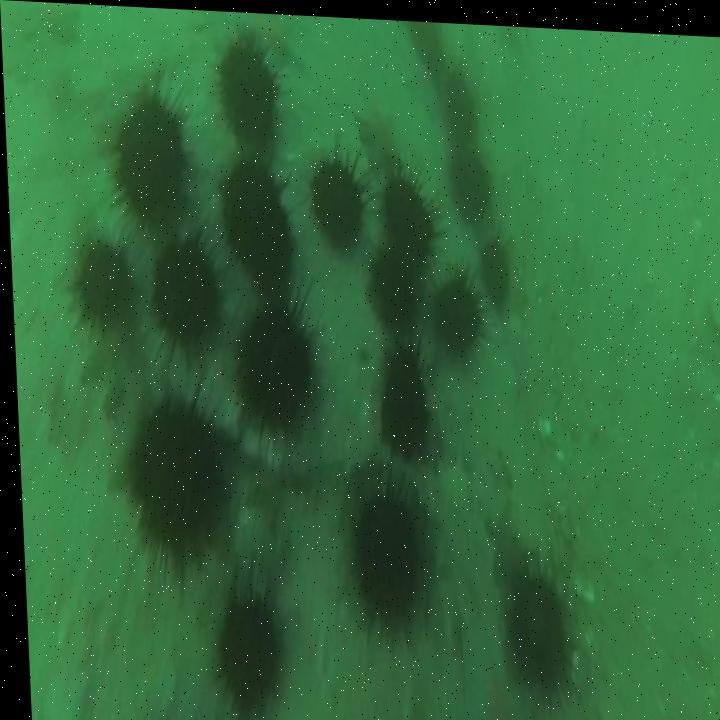echinus: (104, 357, 239, 592), (322, 439, 433, 644), (90, 60, 203, 253), (219, 281, 323, 463), (485, 535, 583, 720), (204, 136, 311, 300), (132, 206, 228, 386), (194, 544, 290, 720), (203, 24, 298, 156), (57, 217, 147, 352), (366, 333, 438, 474), (419, 246, 494, 373), (353, 229, 430, 342), (309, 137, 377, 264), (370, 152, 445, 256), (442, 140, 503, 230), (432, 55, 487, 147), (475, 217, 518, 314), (402, 18, 459, 86)
